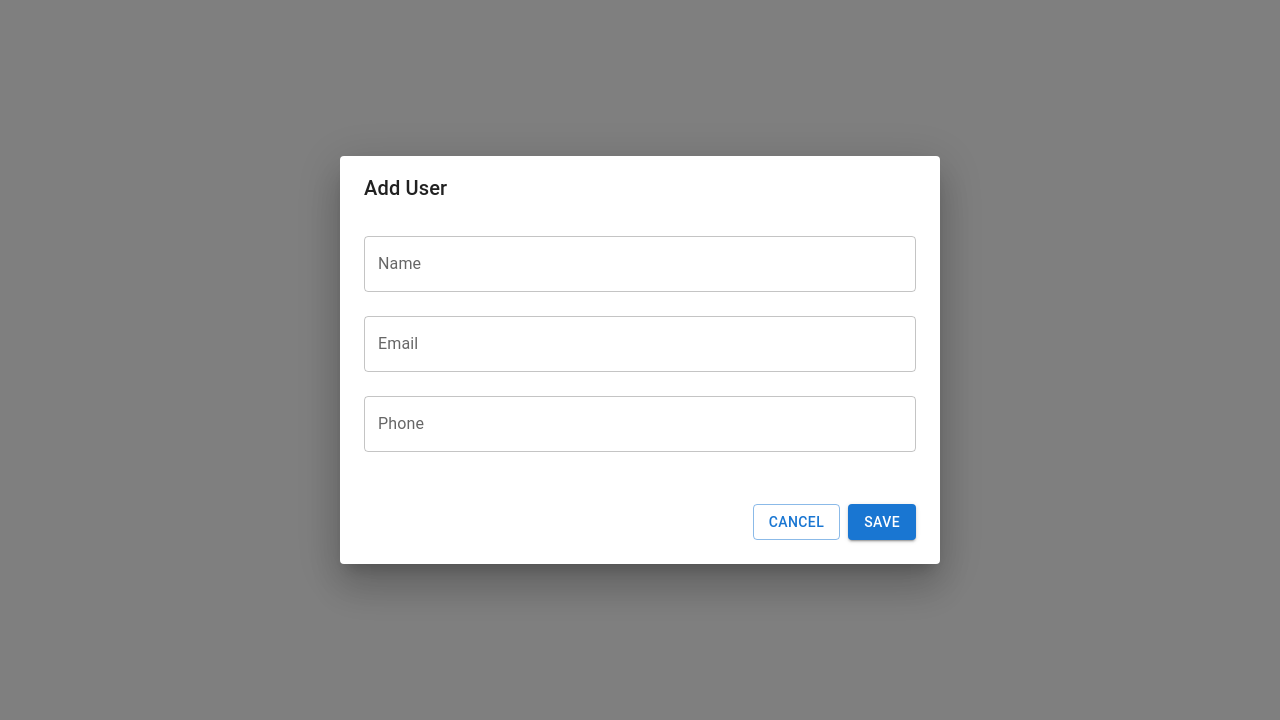
Test case: UserModal › Menampilkan kesalahan ketika nomor telepon tidak valid.
Step 1. Type "abc123" into the field labelled "Phone" → [640, 424], box [364, 396, 916, 452]
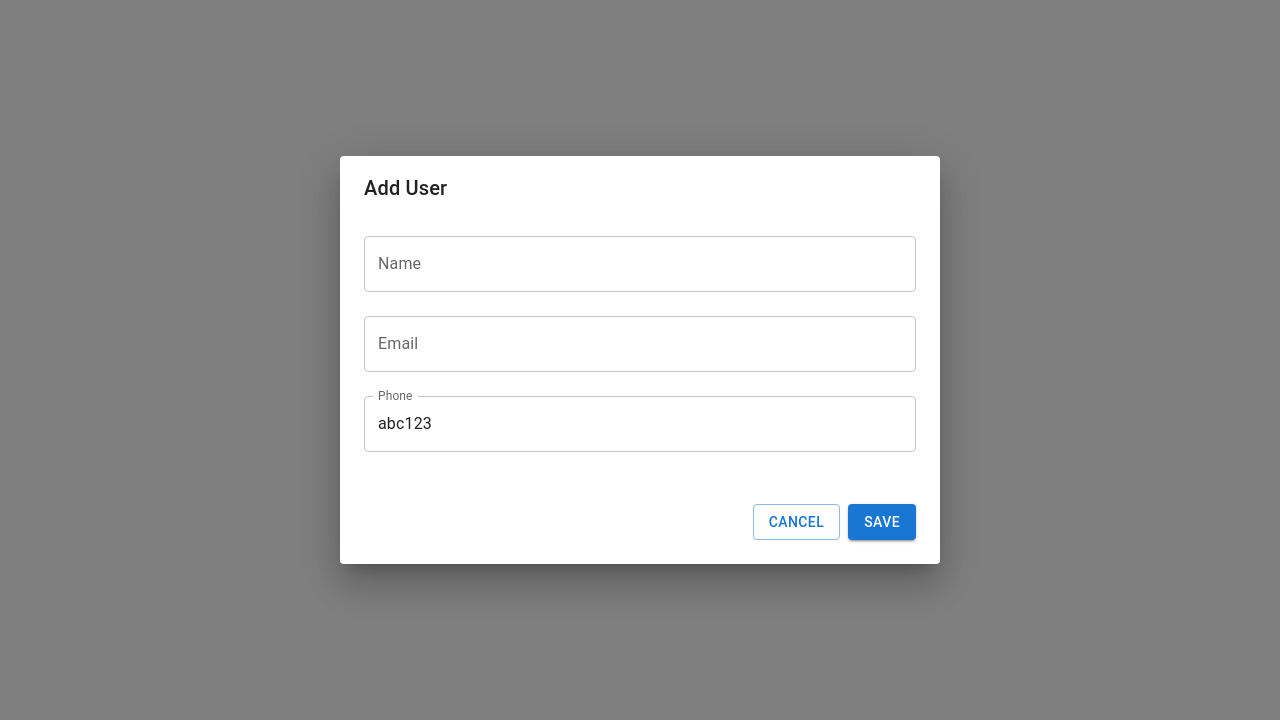
Step 2. Click the button "Save" → [882, 522], box [848, 504, 916, 540]
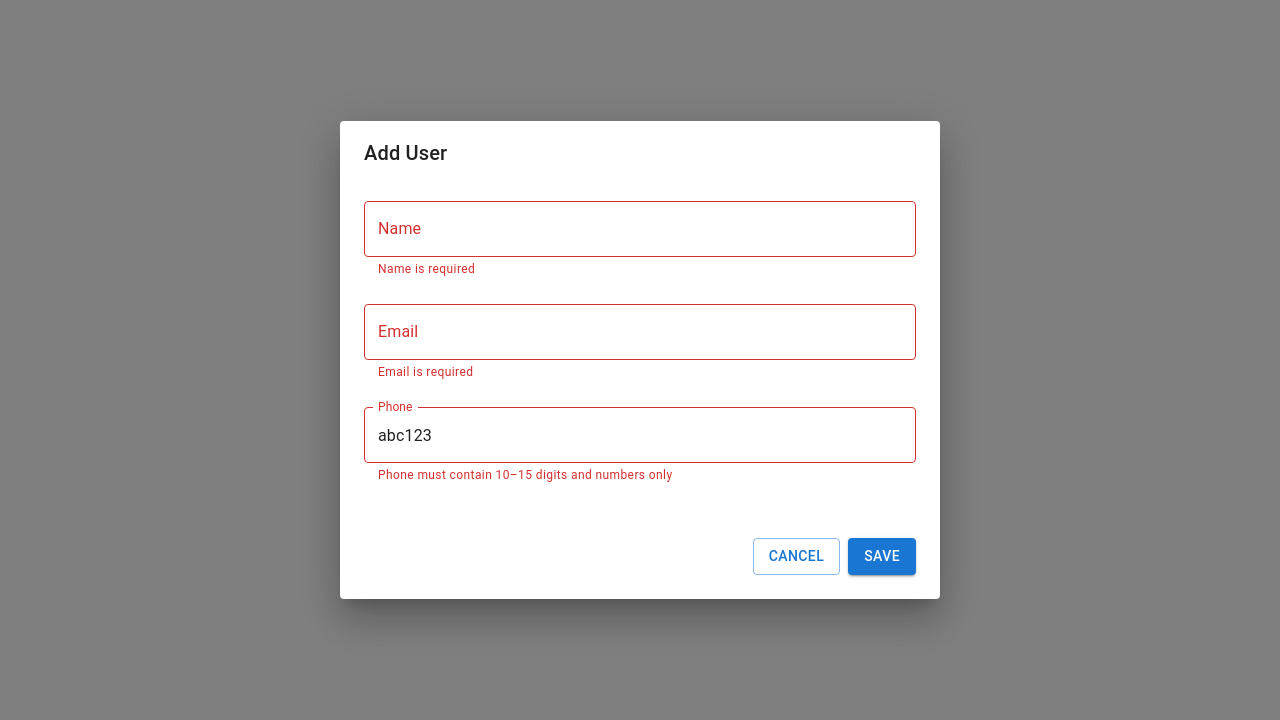
Now the text "Phone must contain 10–15 digits and numbers only" is shown, box [378, 468, 672, 482]
